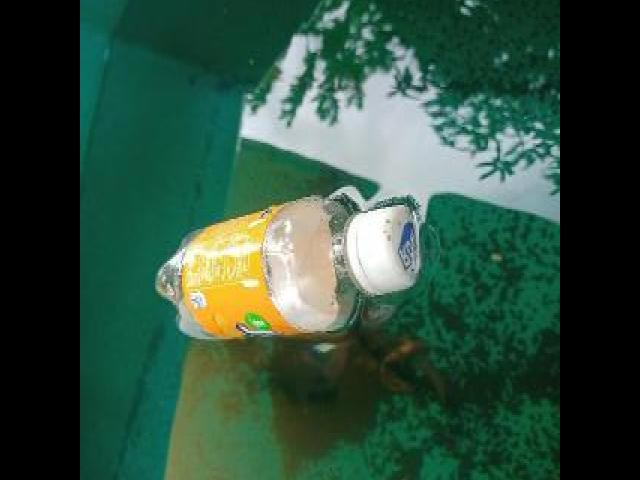Bottle: (152, 191, 438, 350)
